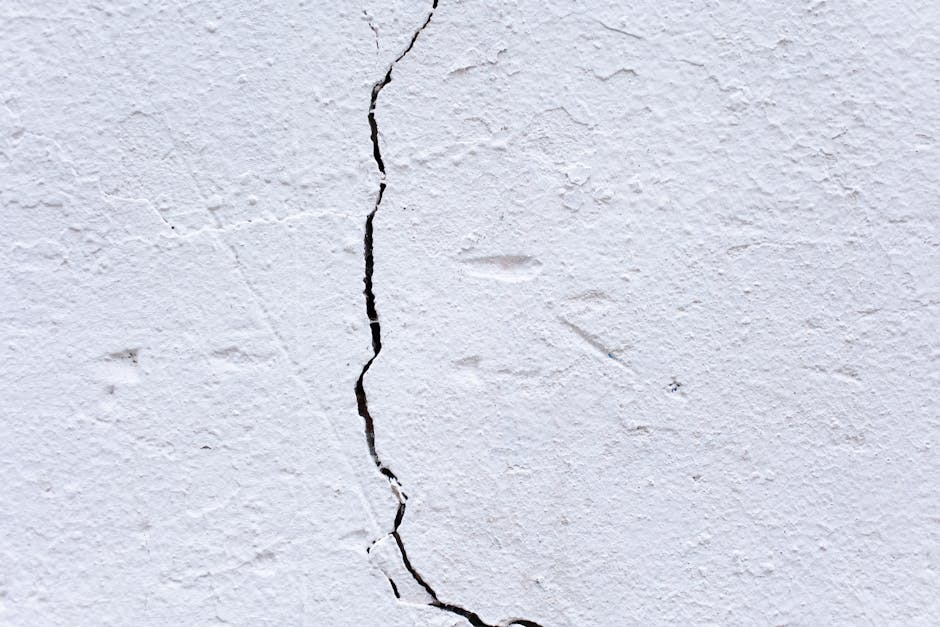细微裂纹: (310, 0, 439, 627)
